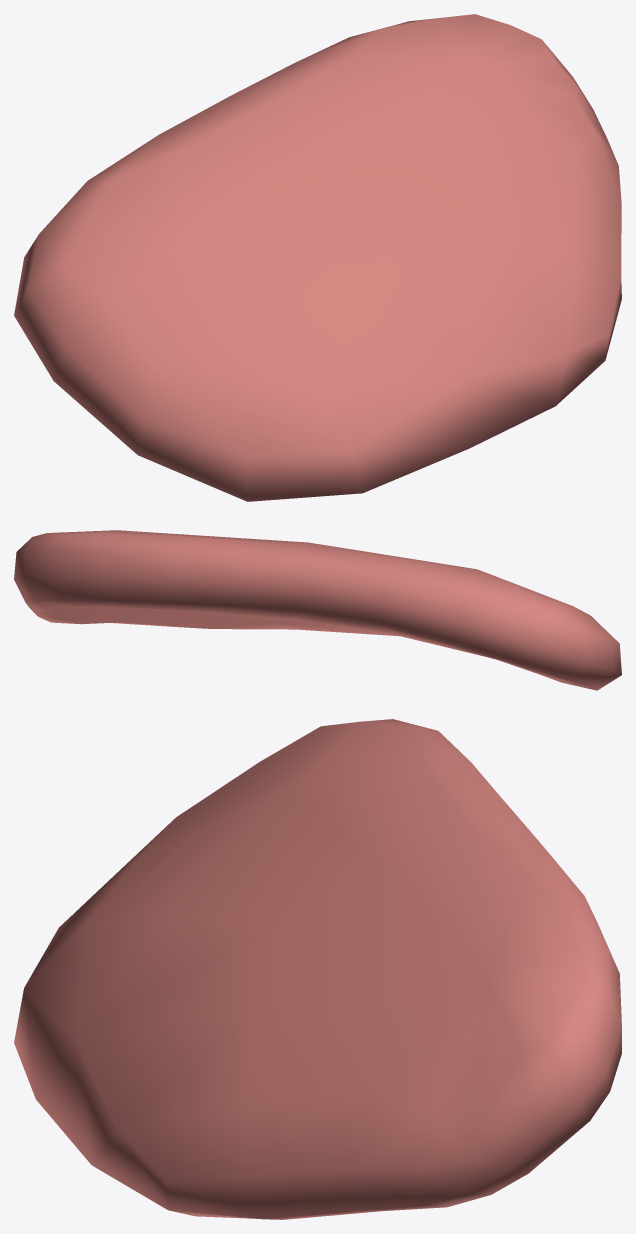
3 views of the same model, one above another, from view 1: azimuth 30°, elevation 25°; view 2: azimuth 150°, elevation 25°; view 3: azimuth 270°, elevation 25° (orthographic). The views are drawn at different scales.
Visible parts, largest first — view 1: ZA_07a6cd4ff6cd5c42; view 2: ZA_07a6cd4ff6cd5c42; view 3: ZA_07a6cd4ff6cd5c42.
Boxes of the visible parts, bbox=[...] form: ZA_07a6cd4ff6cd5c42: bbox=[14, 14, 621, 501]; ZA_07a6cd4ff6cd5c42: bbox=[14, 530, 621, 690]; ZA_07a6cd4ff6cd5c42: bbox=[14, 719, 621, 1219].
Bounding box in the file's own units: 0.00375 × 0.00137 × 0.00255.
